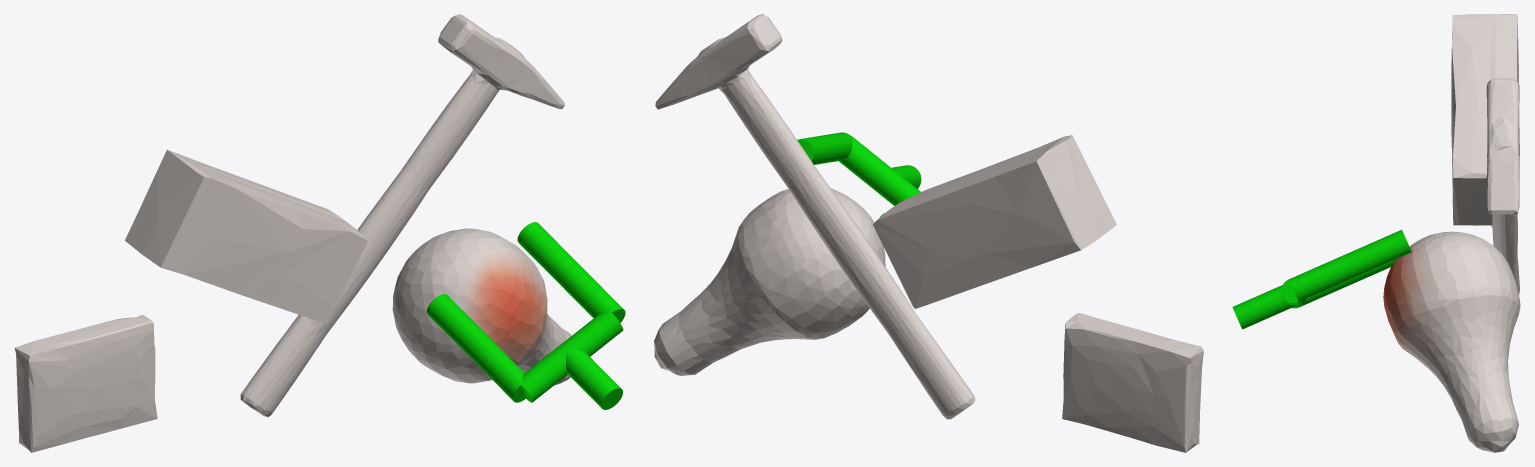
The model's file is round_000_trial_000.obj.
The picture shows the model from 3 angles, left to right: view 1: azimuth 30°, elevation 25°; view 2: azimuth 150°, elevation 25°; view 3: azimuth 270°, elevation 25°; orthographic projection. The views are drawn at different scales.
Parts seen in each view (by area): view 1: geometry_0, geometry_1; view 2: geometry_0, geometry_1; view 3: geometry_0, geometry_1.
Boxes of the visible parts, x1,y1,x2,y2 form: geometry_0: (14, 14, 571, 452); geometry_1: (426, 222, 625, 409); geometry_0: (654, 14, 1203, 452); geometry_1: (797, 132, 921, 217); geometry_0: (1383, 14, 1520, 452); geometry_1: (1232, 229, 1411, 329).
Bounding box in the file's own units: 0.2263 × 0.1502 × 0.1165.
